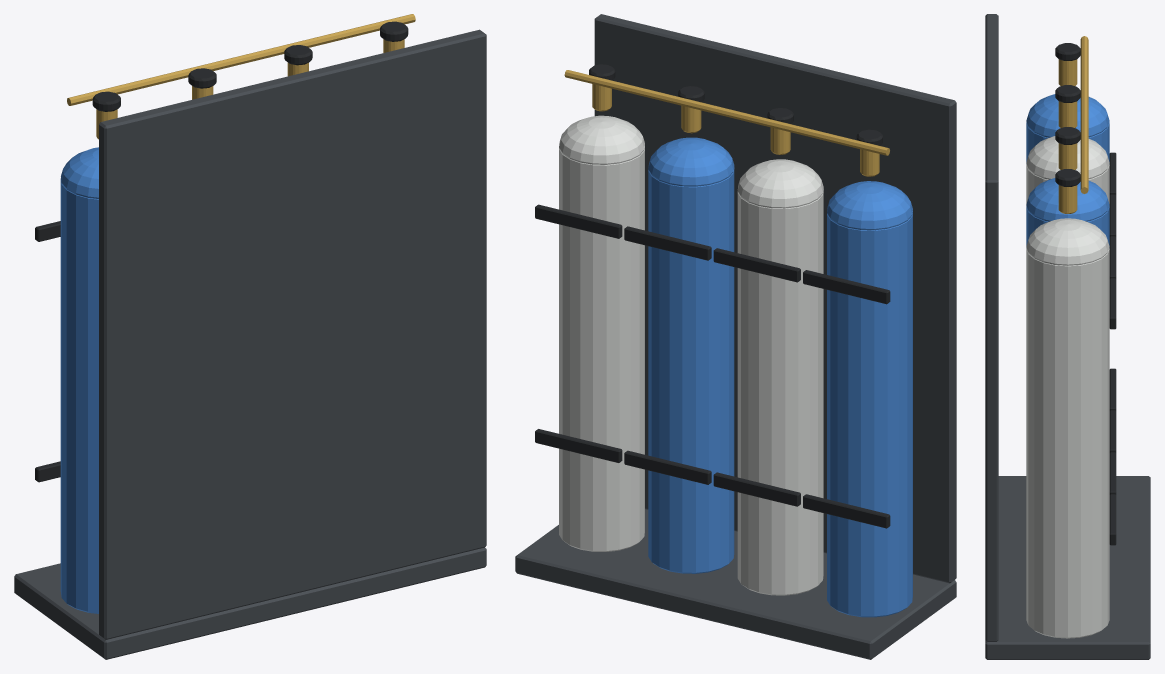
Rendered from air_tank_rack.glb.
The picture shows the model from 3 angles, left to right: view 1: azimuth 30°, elevation 25°; view 2: azimuth 150°, elevation 25°; view 3: azimuth 270°, elevation 25°; orthographic projection. The views are drawn at different scales.
Visible parts, largest first — view 1: air_tank_rack; view 2: air_tank_rack; view 3: air_tank_rack.
Boxes of the visible parts, x1,y1,x2,y2 form: air_tank_rack: (14,14,486,659); air_tank_rack: (515,14,956,659); air_tank_rack: (985,14,1150,659).
Size of the model in its own units: 1.2 by 1.6 by 0.5.
